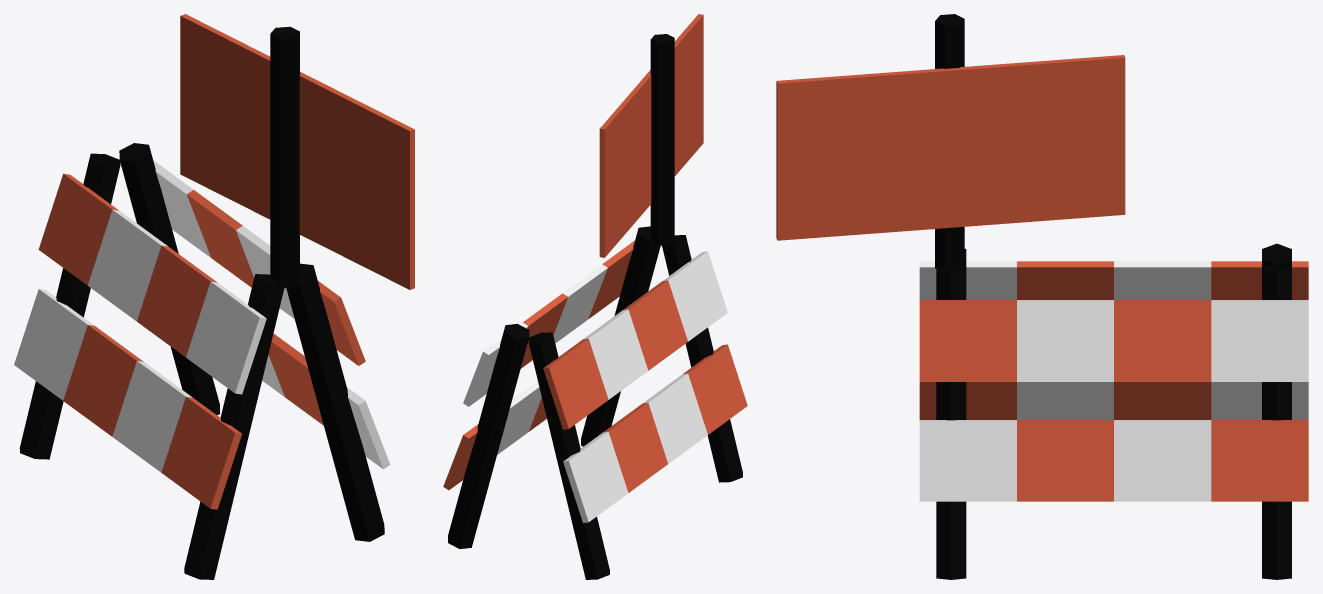
The model's file is Roadblock.fbx.
3 renders of one model, left to right at view 1: azimuth 30°, elevation 25°; view 2: azimuth 150°, elevation 25°; view 3: azimuth 270°, elevation 25°, orthographic. The views are drawn at different scales.
Parts seen in each view (by area): view 1: TrafficBarrier_01_Cube.021, Cube, Cylinder; view 2: TrafficBarrier_01_Cube.021, Cube, Cylinder; view 3: TrafficBarrier_01_Cube.021, Cube, Cylinder.
Part boxes in pixels (box(x1,y1,x2,y2)): TrafficBarrier_01_Cube.021: box(14, 143, 390, 579); Cube: box(180, 14, 414, 289); Cylinder: box(270, 26, 299, 288); TrafficBarrier_01_Cube.021: box(443, 226, 747, 579); Cube: box(599, 14, 703, 257); Cylinder: box(650, 34, 674, 245); TrafficBarrier_01_Cube.021: box(919, 243, 1308, 579); Cube: box(776, 55, 1125, 240); Cylinder: box(935, 14, 964, 268).
Bounding box in the file's own units: 0.9801 × 2.46 × 2.28.
